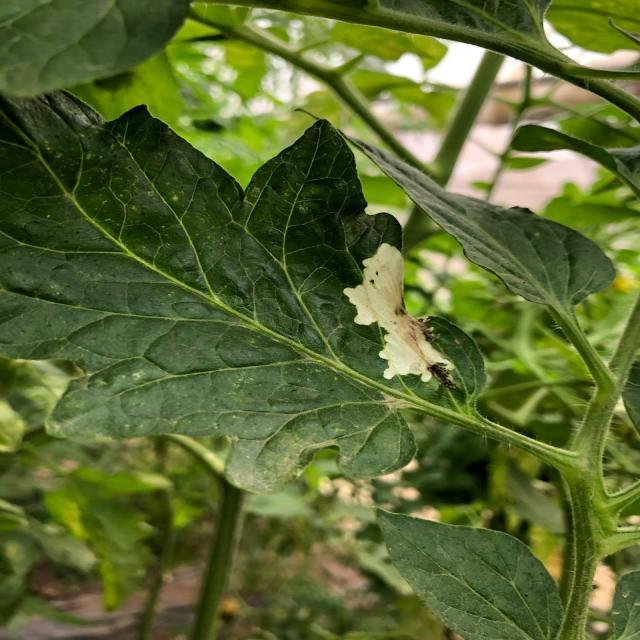Tuta absoluta: (333, 239, 457, 414)
